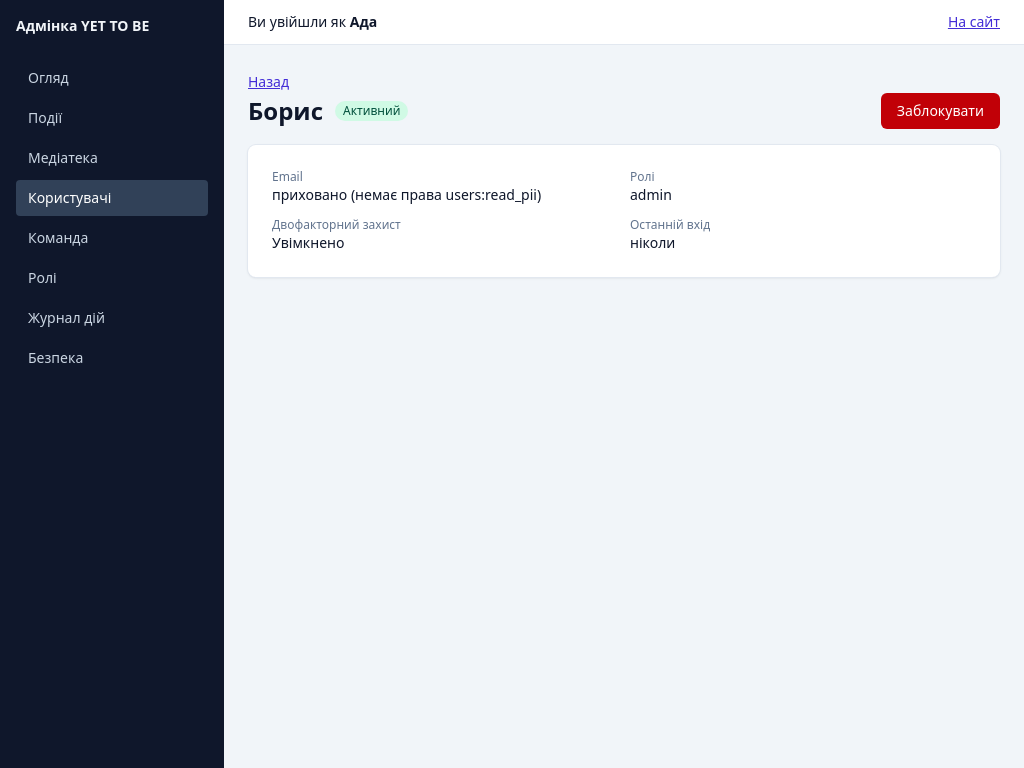
користувачі › закоротка причина не відправляється
Click the button "Заблокувати" at (940, 111), box x1=881 y1=93 x2=1000 y2=129
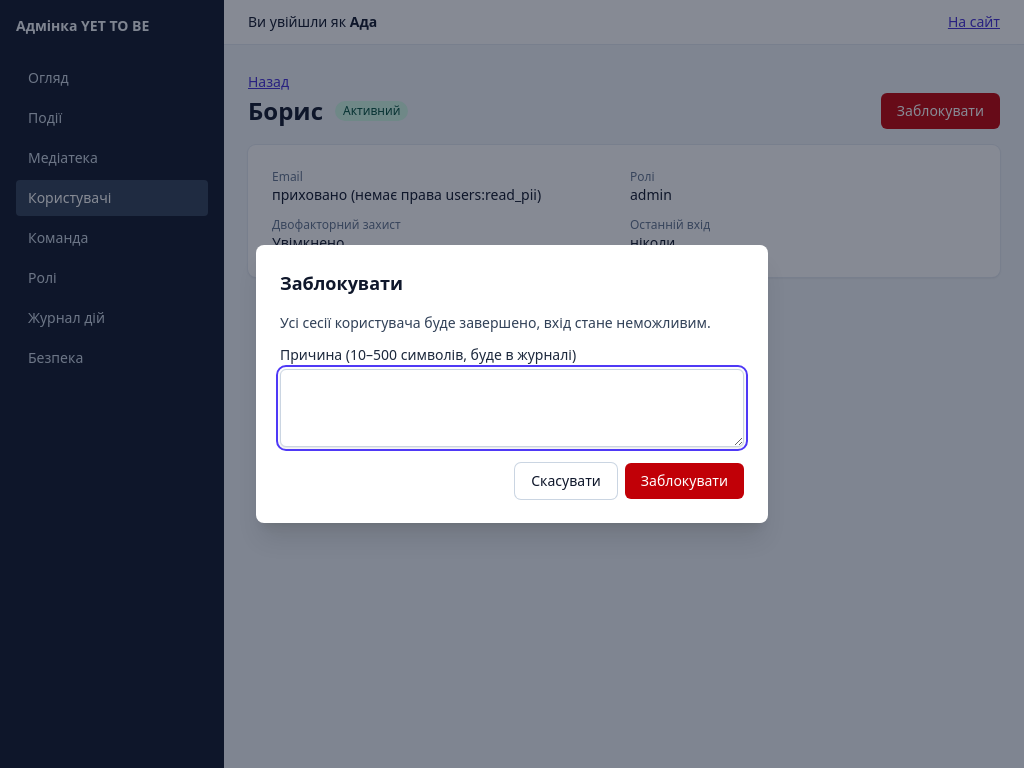
Type "коротко" into the text box labelled "Причина (10–500 символів, буде в журналі)" at (512, 408), box x1=280 y1=369 x2=744 y2=447
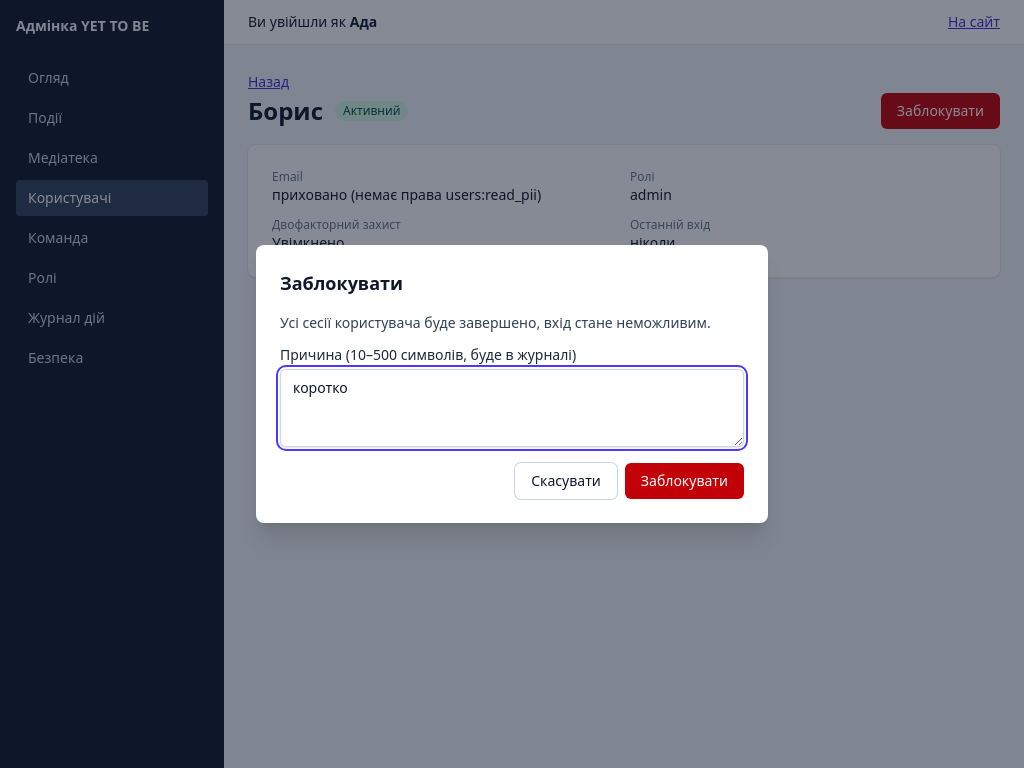
Click the button "Заблокувати" at (684, 481), box x1=625 y1=463 x2=744 y2=499
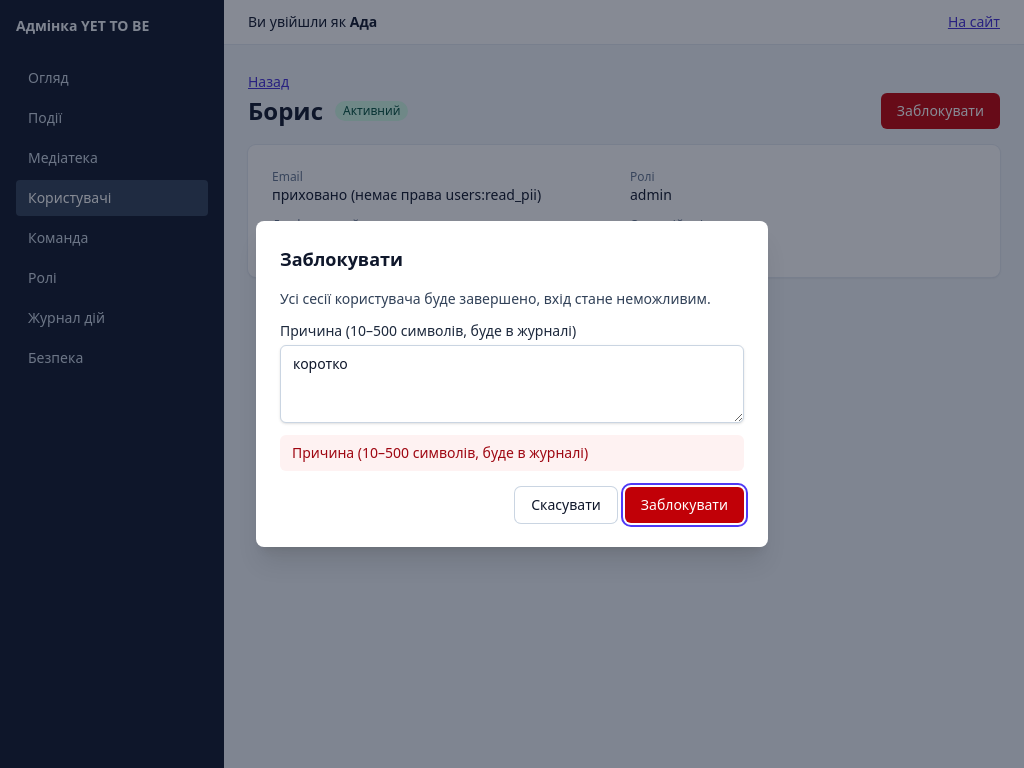
Expected: the message "Причина (10–500 символів, буде в журналі)" is shown, x1=280 y1=435 x2=744 y2=471
